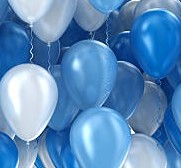Balloon: (1, 63, 58, 143), (62, 39, 117, 109), (70, 108, 131, 168), (130, 9, 181, 78)
